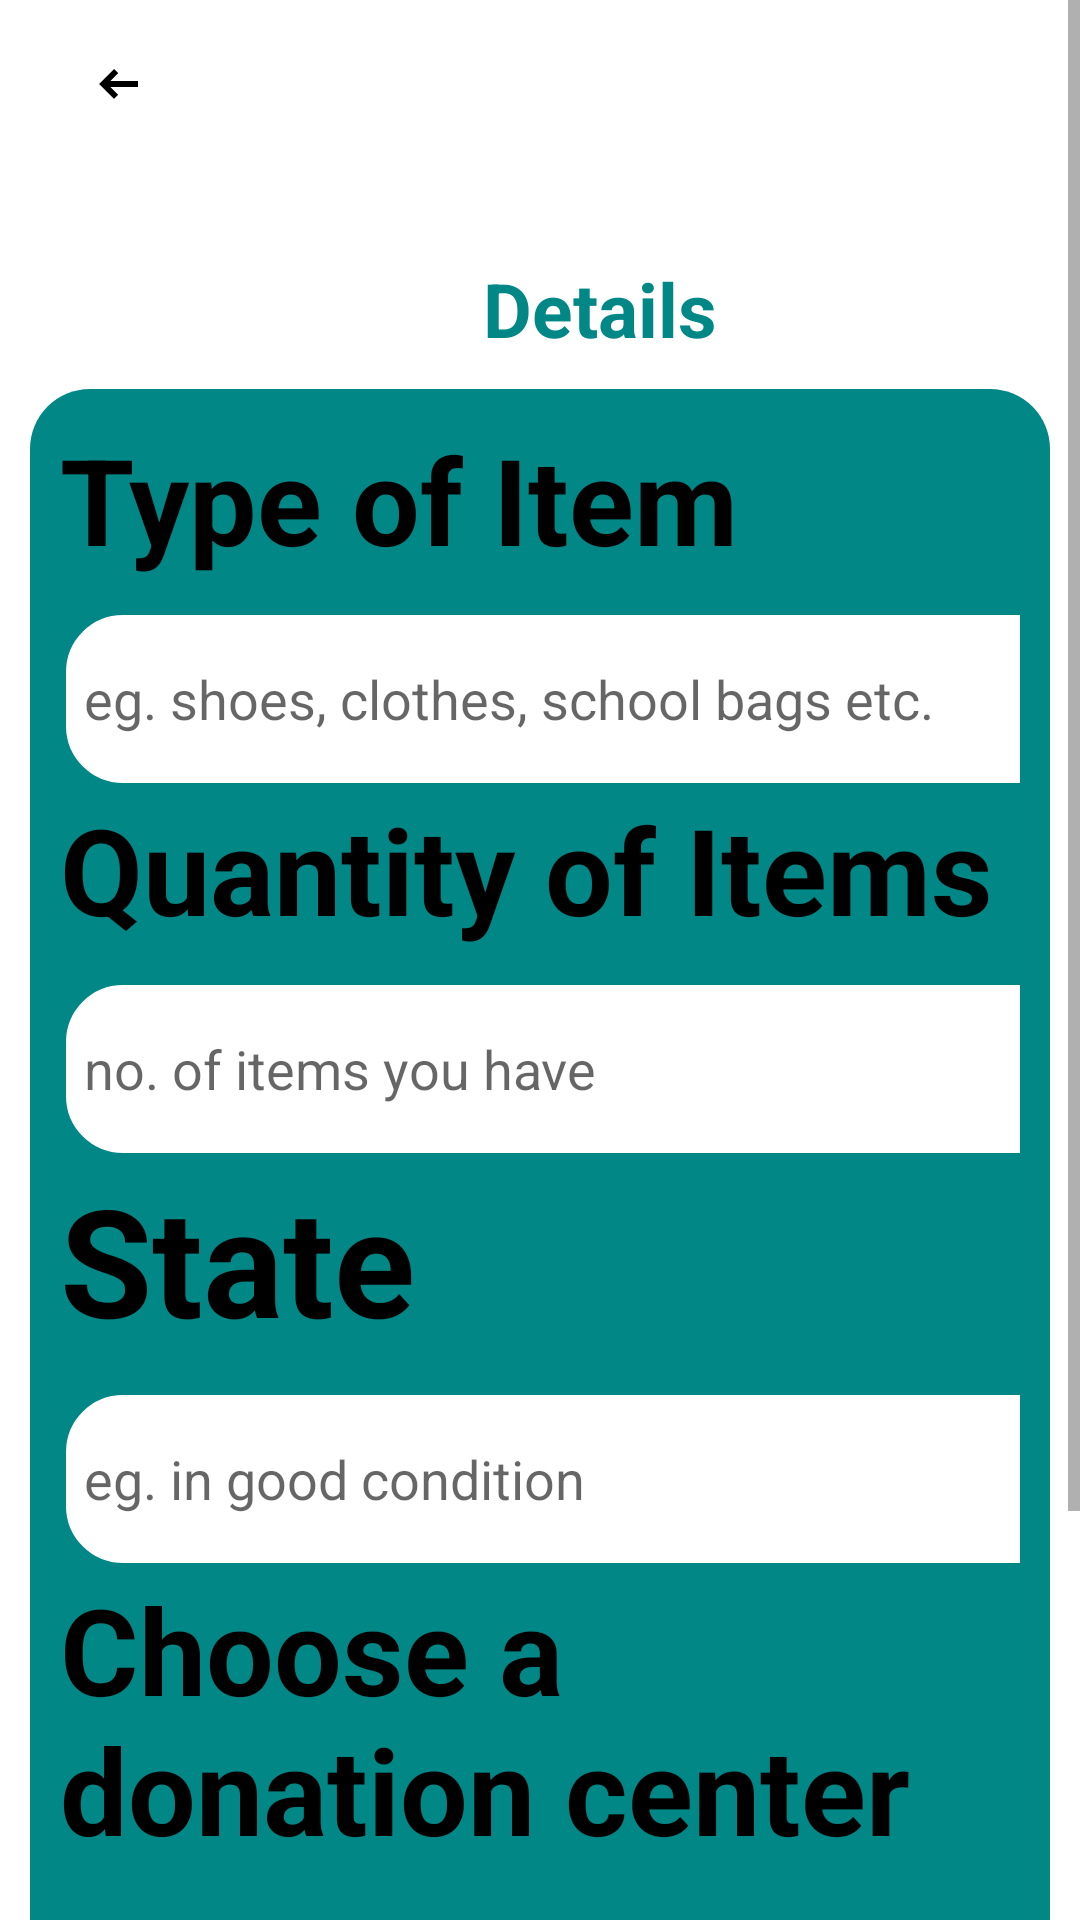

Icon click points for this 1080×1920 phone screenshot, format [x,y]:
prevoiusact: [118,84]
